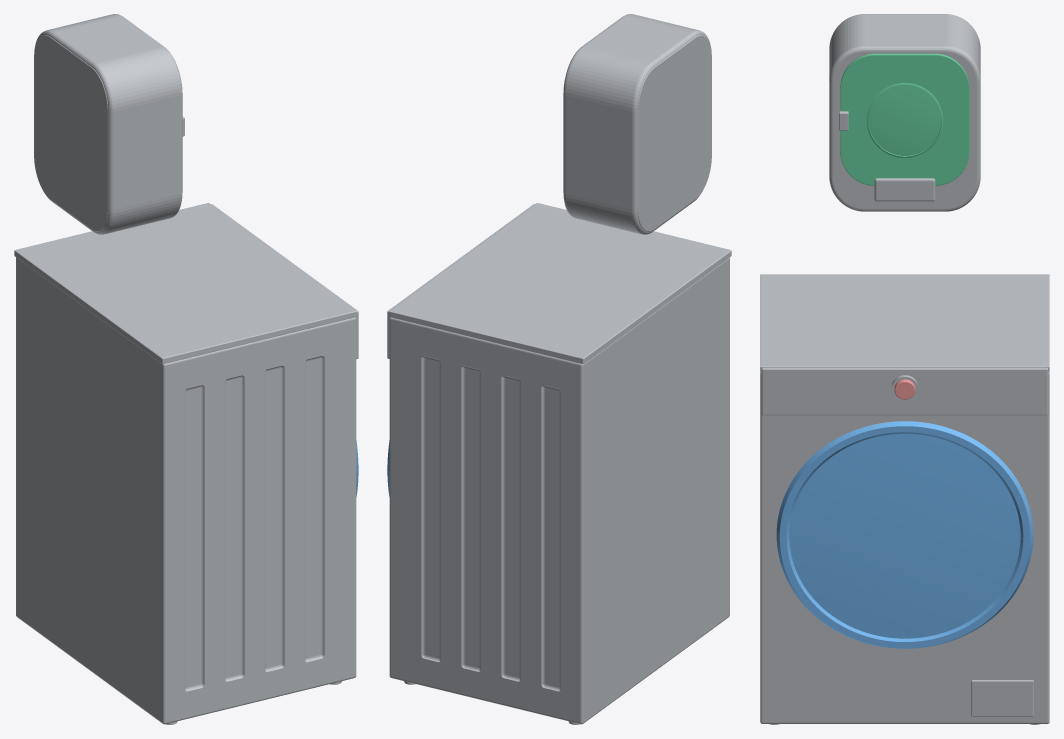
Rendered from parts.glb.
3 renders of one model, left to right at view 1: azimuth 30°, elevation 25°; view 2: azimuth 150°, elevation 25°; view 3: azimuth 270°, elevation 25°, orthographic. The views are drawn at different scales.
Visible parts, largest first — view 1: visual_0_0; view 2: visual_0_0; view 3: visual_0_0, visual_1_0, visual_3_0.
Boxes of the visible parts, bbox=[...] form: visual_0_0: bbox=[14, 14, 358, 724]; visual_0_0: bbox=[387, 14, 731, 724]; visual_0_0: bbox=[760, 14, 1049, 724]; visual_1_0: bbox=[776, 421, 1033, 648]; visual_3_0: bbox=[840, 53, 969, 185].
Bounding box in the file's own units: 0.4 × 1.08 × 0.46.
